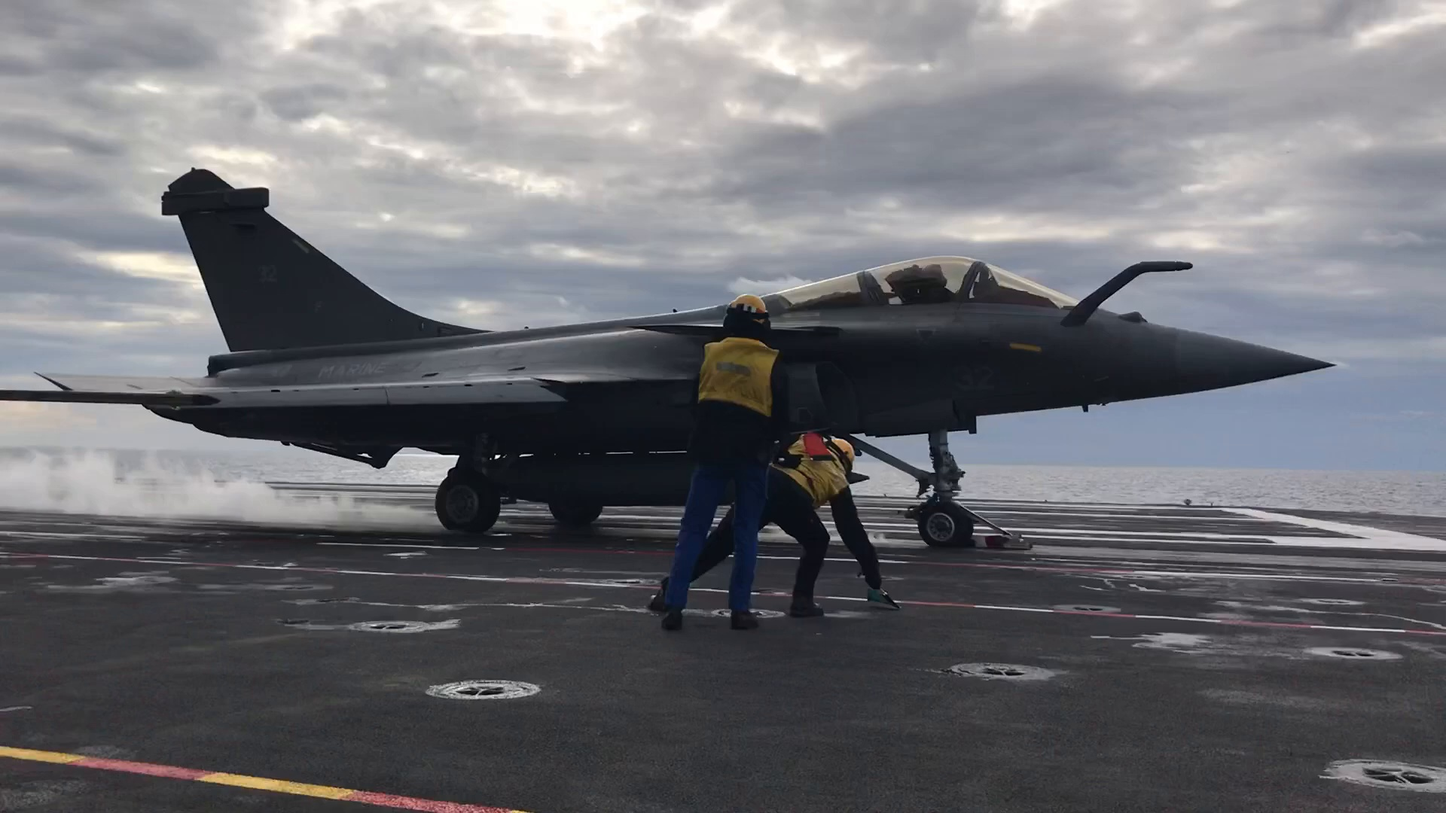Rafale: (3, 170, 1344, 614)
